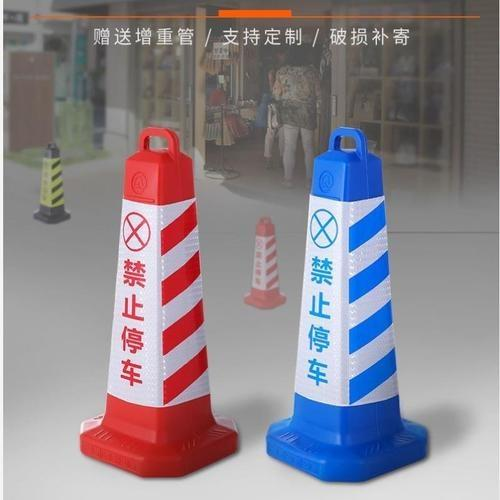cone_barrel: (69, 122, 241, 473), (257, 129, 427, 476), (237, 215, 285, 310), (28, 141, 69, 222)
